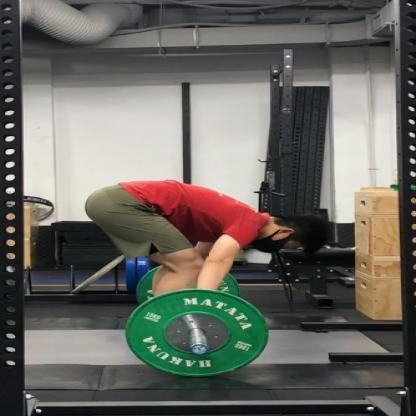barbell: (124, 265, 270, 376)
